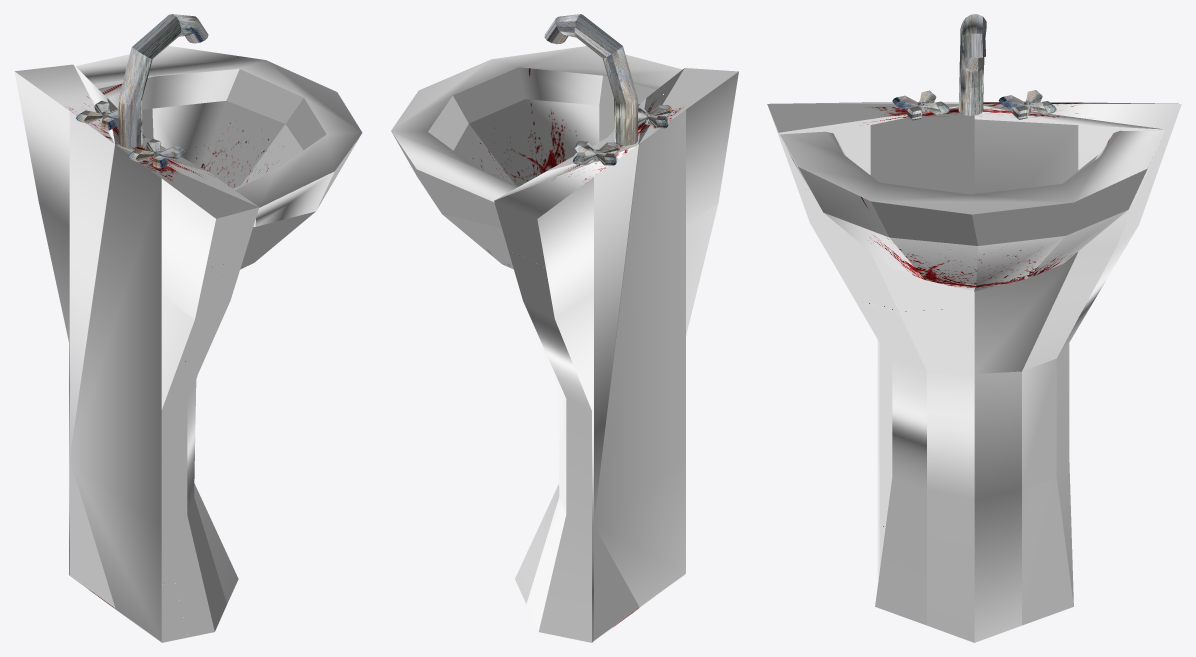
File: lavandino.fbx
3 views of the same model, side by side, from view 1: azimuth 30°, elevation 25°; view 2: azimuth 150°, elevation 25°; view 3: azimuth 270°, elevation 25° (orthographic). The views are drawn at different scales.
Visible parts, largest first — view 1: Generic; view 2: Generic; view 3: Generic.
Boxes of the visible parts, <box> form: Generic: <box>14,14,362,642</box>; Generic: <box>391,14,738,642</box>; Generic: <box>767,14,1181,642</box>.
Size of the model in its own units: 0.3152 by 0.7604 by 0.4793.
2 materials, 2 textured.
